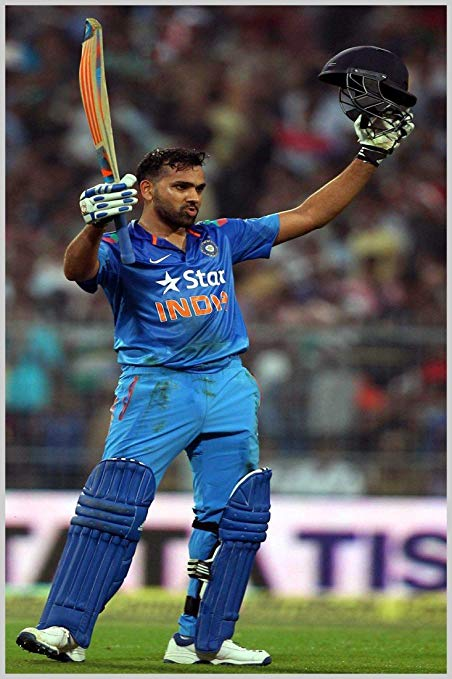LeftElbow: (281, 181, 317, 270)
LeftShoulder: (209, 198, 252, 311)
RightElbow: (60, 228, 97, 297)
